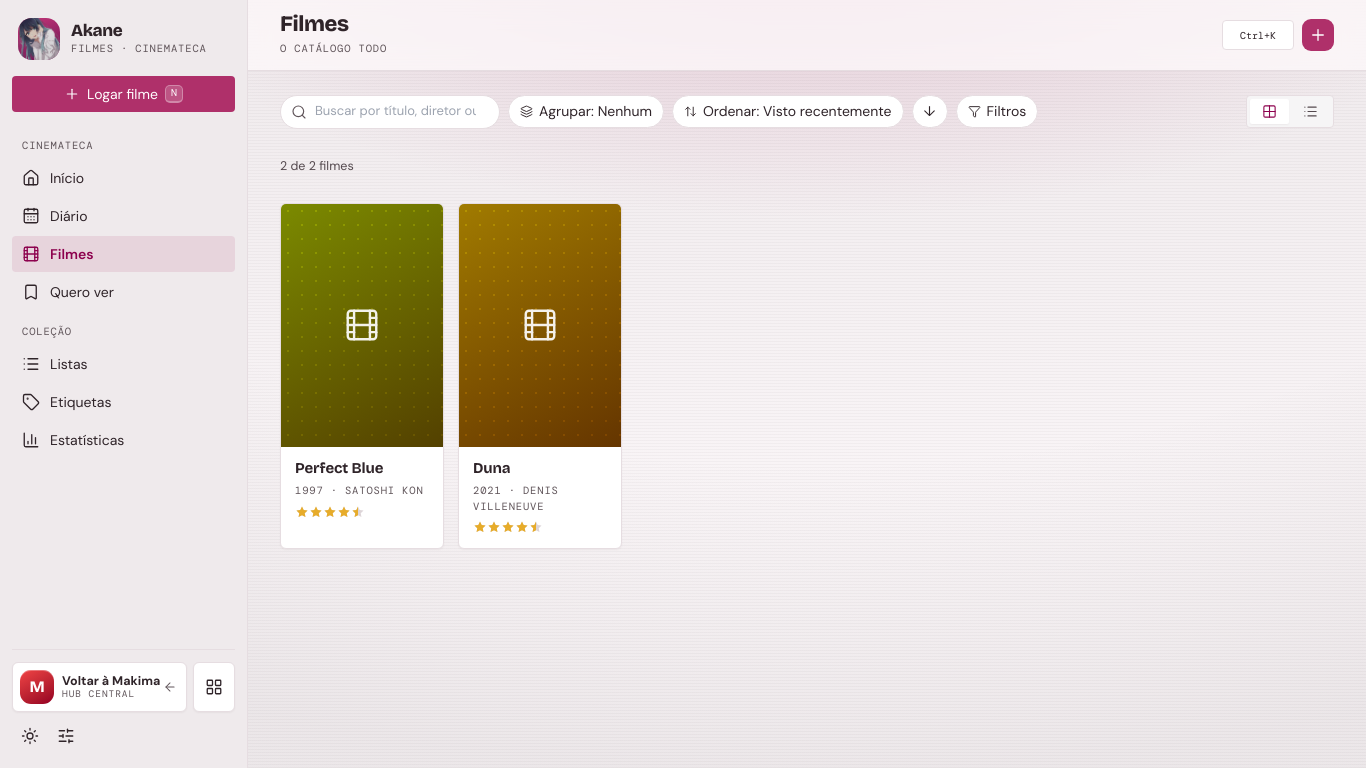
Test: payloads reais, com null › Filmes: digitar na busca filtra sem estourar (a busca lê as etiquetas)
Check: the heading "Duna" is shown, box [473,459,510,477]
In the search field with placeholder "Buscar por título, diretor ou gênero": {"x": 402, "y": 112} [315,102,489,121], type "duna"
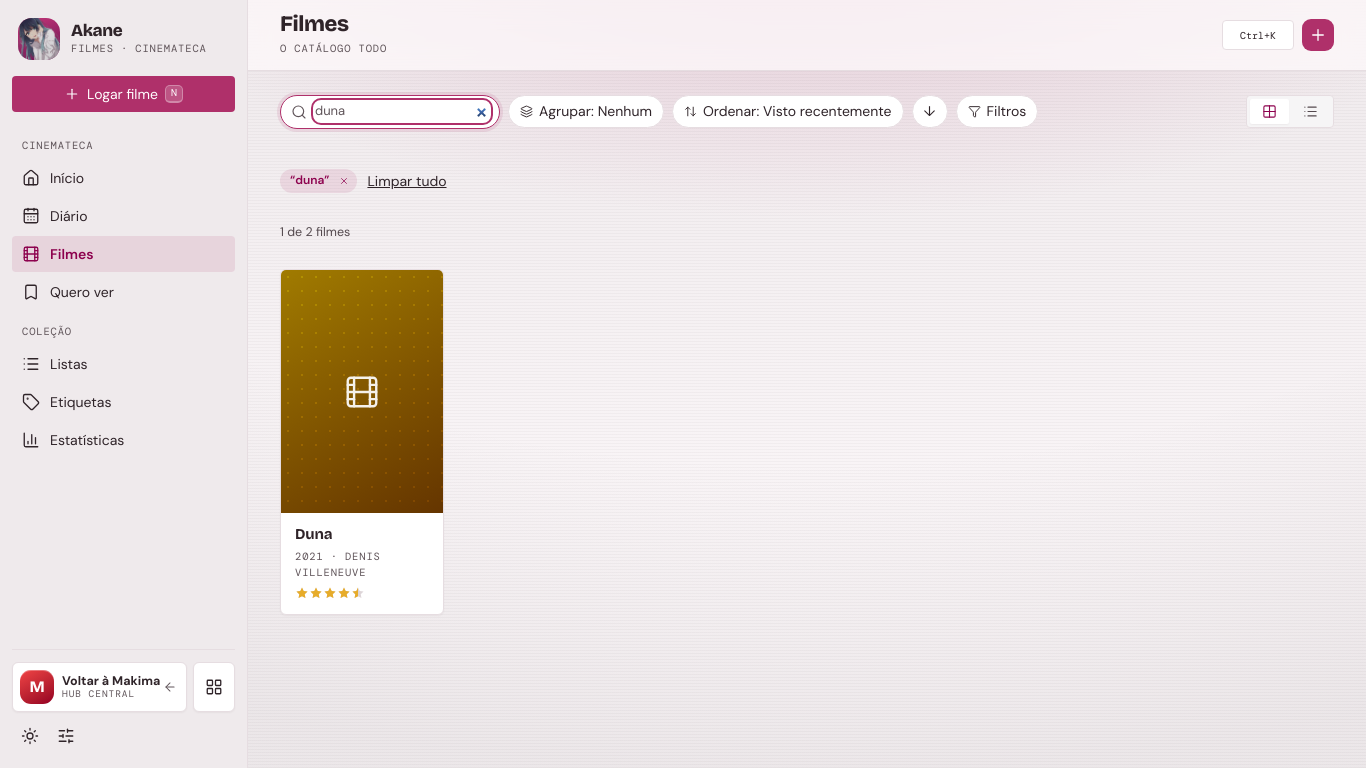
Check: the heading "Duna" is shown, box [295,525,332,543]
Check: the button "Perfect Blue" is gone
